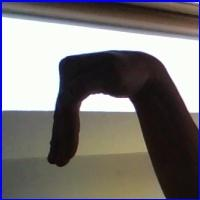A: (46, 49, 158, 178)
